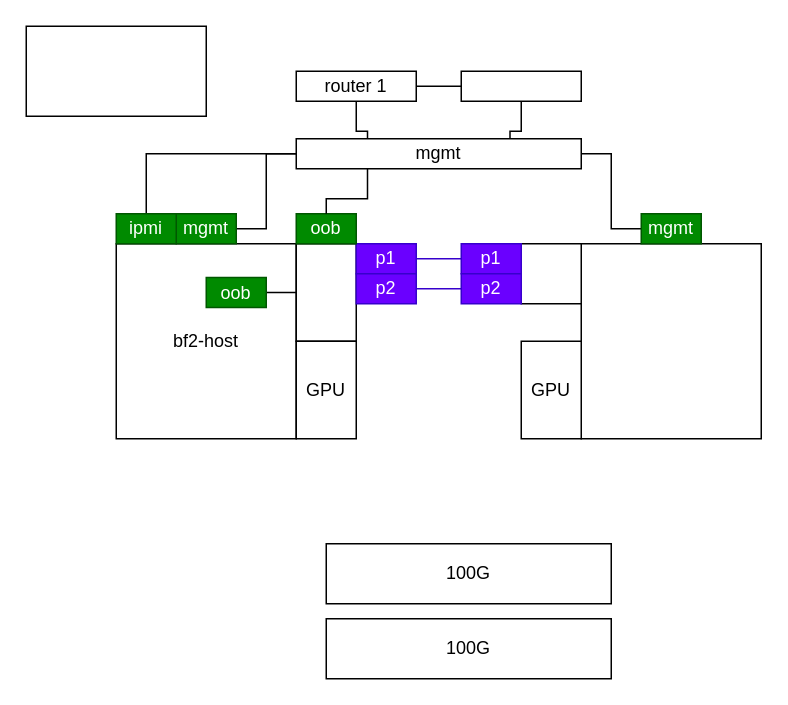
Some shapes in this 788 by 705 pixel diagram are drawn without their labels. Each missing label, with the centre of its shape:
BF2: pixel 325 291
CX5: pixel 550 273
router 2: pixel 520 85
test-host: pixel 670 340
warpgate: pixel 115 70
